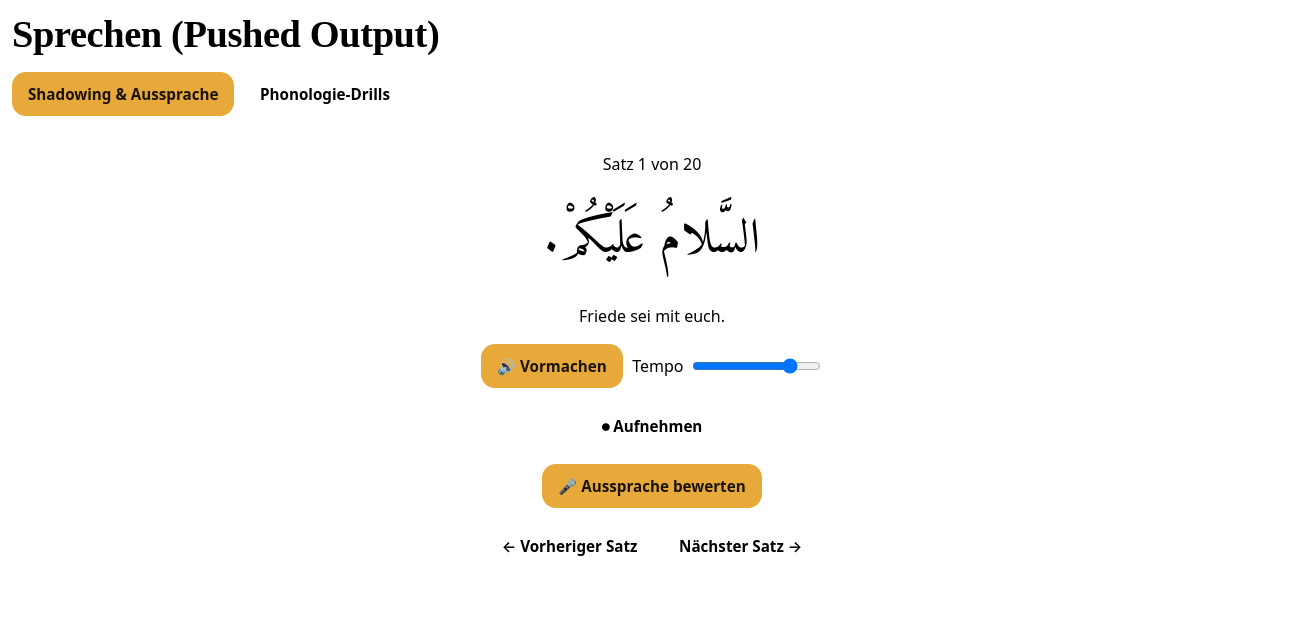
Test: Speaking (integration, letter feedback) › shares the rated recording with the class teacher, score included
This screenshot has width=1292, height=620.
Click the button "⏺ Aufnehmen". click: x=652, y=426
box: [586,404,718,448]
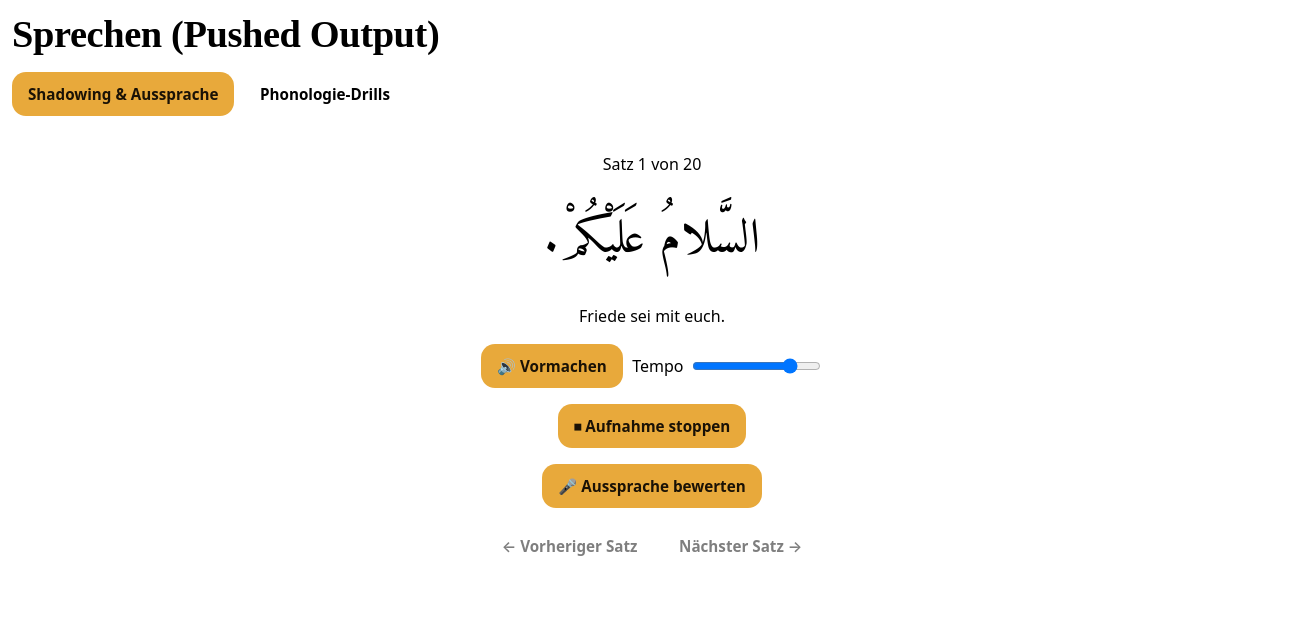
Click the button "⏹ Aufnahme stoppen". click: x=652, y=426
box: [558,404,746,448]
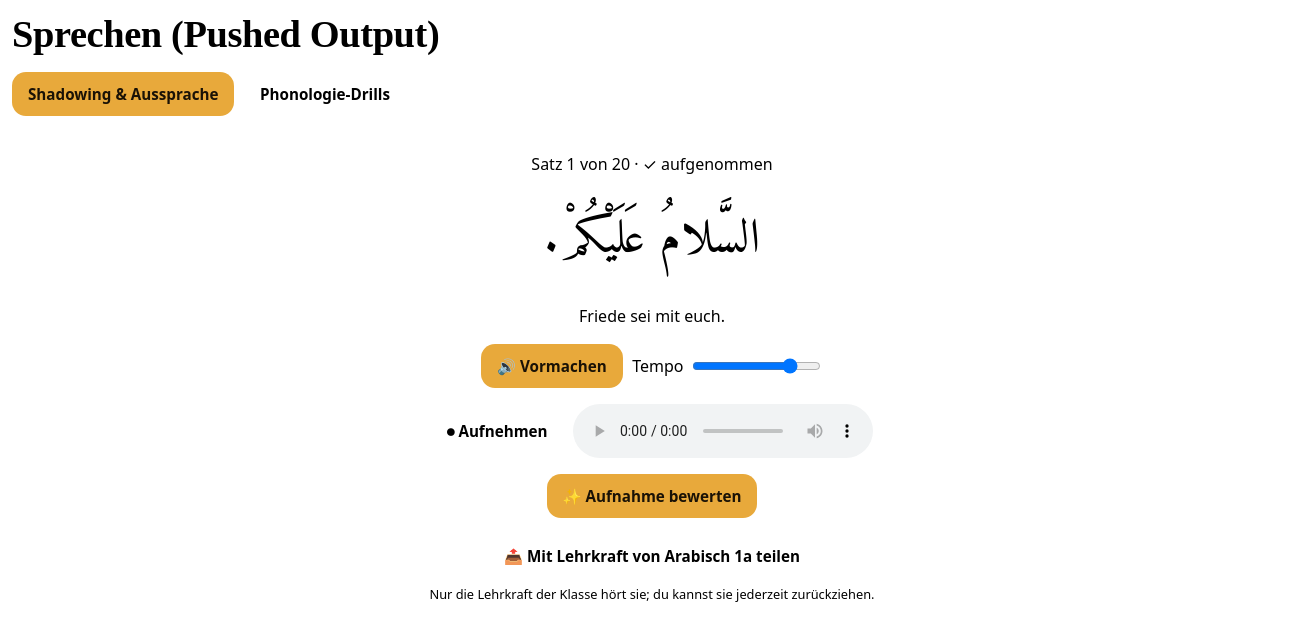
Click the button "✨ Aufnahme bewerten". click: x=652, y=496
box: [546,474,757,518]
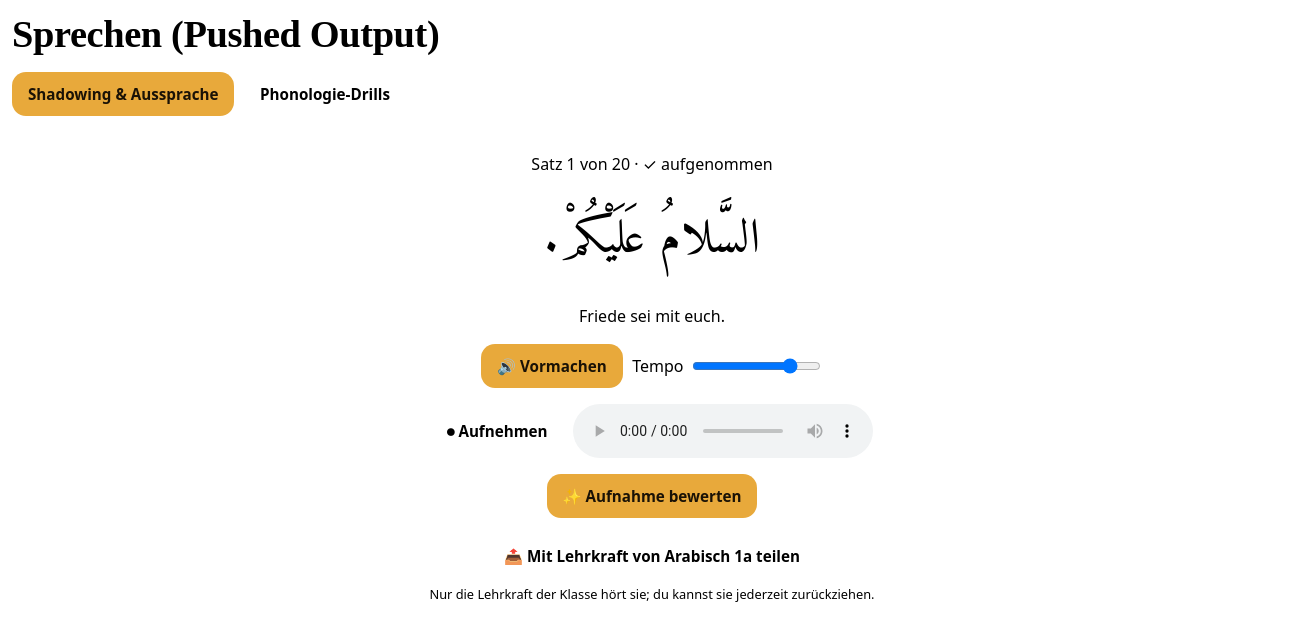
Click the button "📤 Mit Lehrkraft von Arabisch 1a teilen". click: x=652, y=556
box: [488,534,816,578]
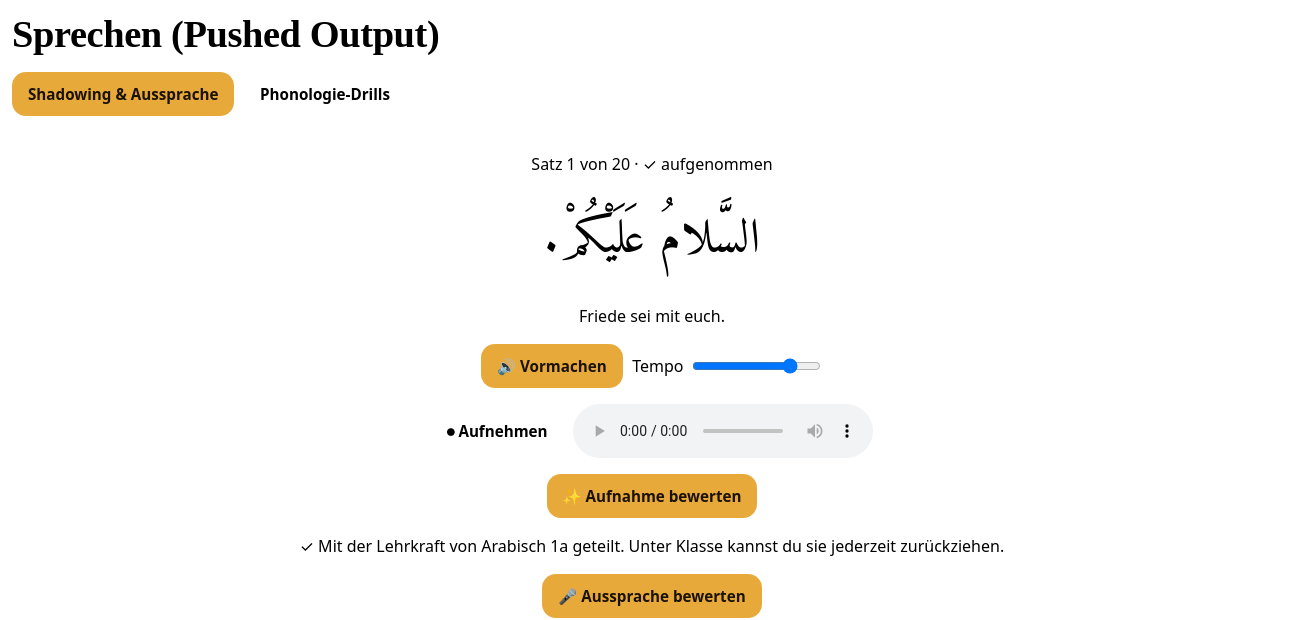
Now the message shows "geteilt", box [300,535,1004,557]
